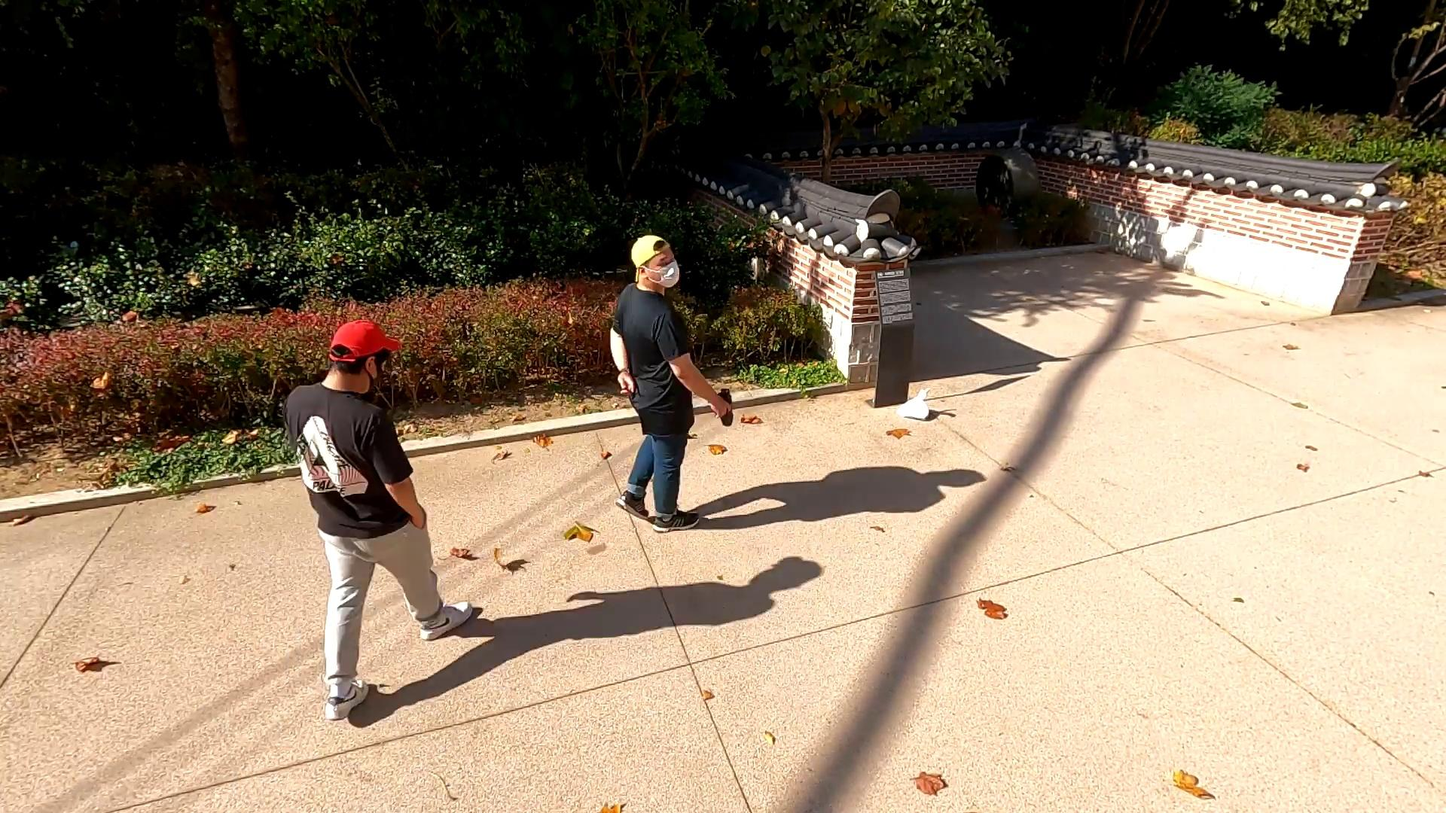person: (275, 319, 477, 724), (604, 231, 736, 532)
trash: (896, 386, 932, 427), (716, 386, 737, 431)
